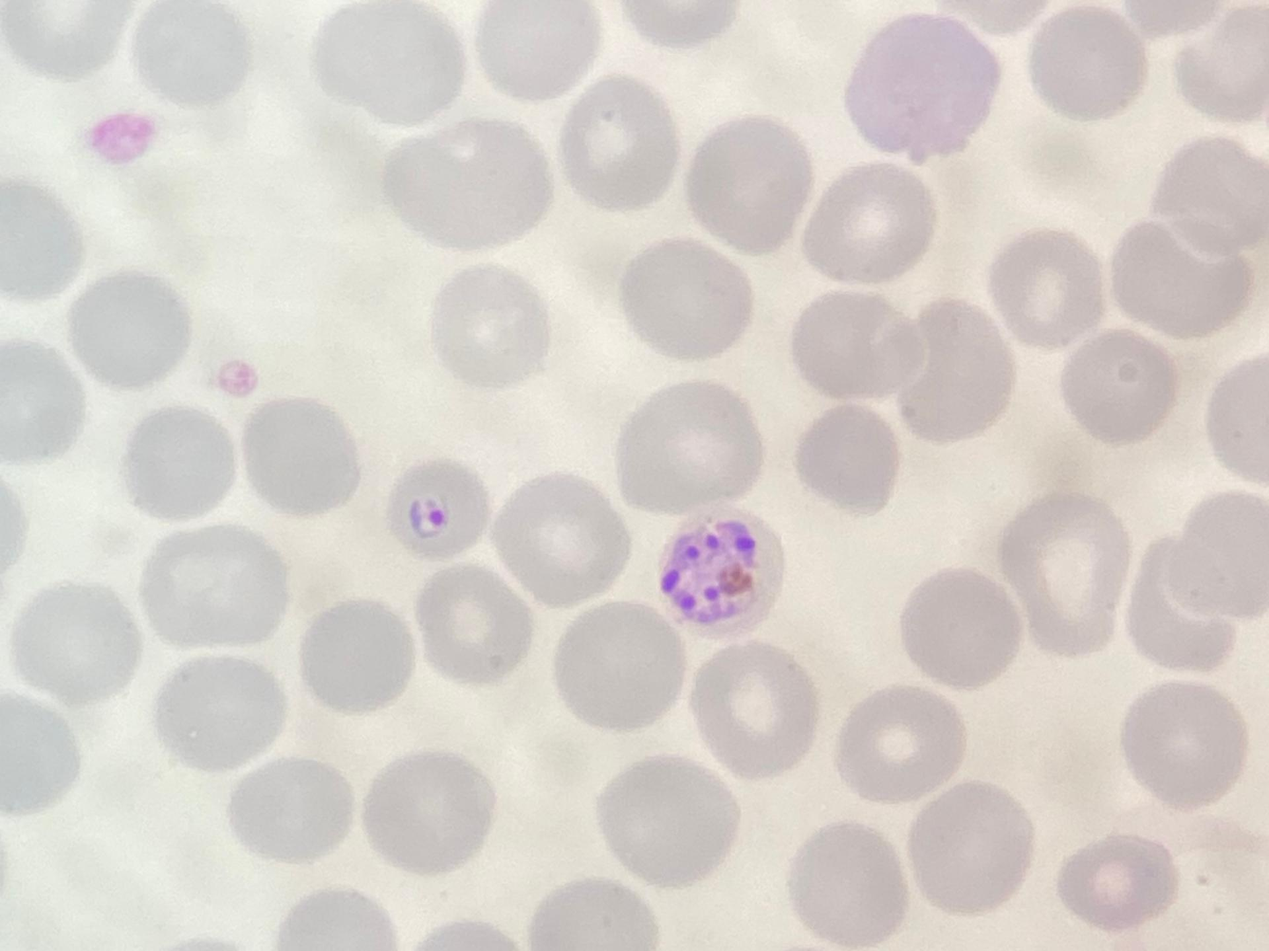Infected: (654, 501, 790, 644), (386, 455, 493, 558)
Uninfected: (383, 122, 554, 255), (846, 14, 999, 162), (1005, 488, 1127, 658), (617, 384, 764, 518), (595, 756, 739, 891), (491, 472, 630, 609), (685, 120, 815, 261), (555, 600, 689, 734), (890, 298, 1012, 443), (564, 69, 683, 217), (359, 750, 496, 878), (13, 580, 144, 712), (317, 1, 461, 121), (145, 529, 285, 652), (692, 642, 815, 781), (833, 681, 965, 808), (806, 159, 937, 284), (1110, 221, 1254, 333), (619, 234, 749, 358), (912, 781, 1034, 913), (1124, 679, 1244, 813), (412, 560, 536, 689), (430, 261, 552, 392), (985, 223, 1109, 349), (1128, 529, 1241, 667), (156, 655, 289, 772), (793, 292, 928, 405), (71, 267, 189, 396), (789, 822, 908, 947), (899, 569, 1024, 687), (1168, 485, 1269, 630), (1150, 137, 1269, 257), (297, 600, 420, 716), (1058, 327, 1178, 443), (121, 404, 234, 525), (1027, 7, 1144, 118), (245, 399, 355, 517), (229, 759, 355, 862), (478, 1, 601, 105), (1053, 836, 1178, 934), (130, 1, 245, 107), (0, 340, 90, 470), (800, 402, 899, 514), (0, 177, 84, 306), (2, 0, 131, 82), (0, 695, 81, 821), (531, 875, 659, 951)
